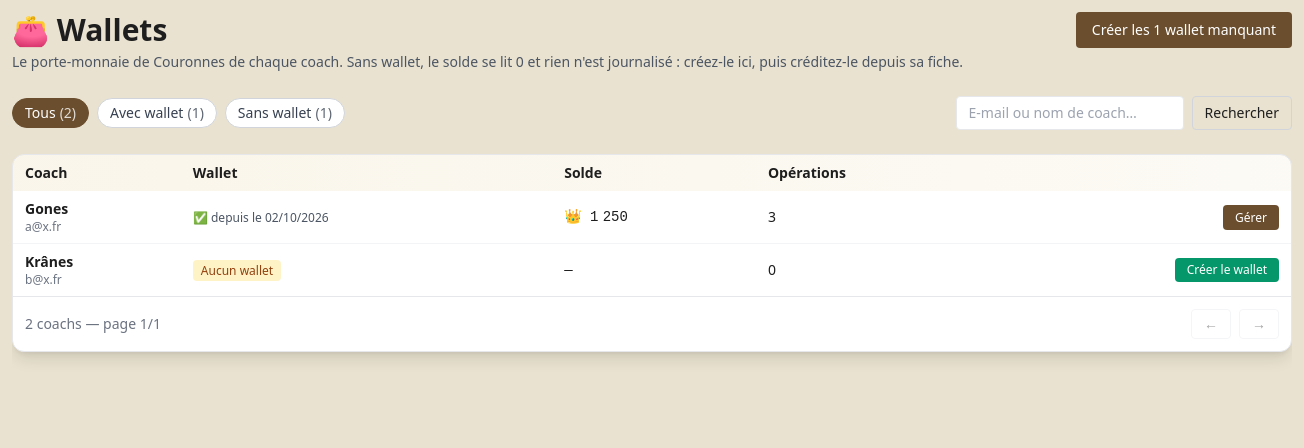
AdminWalletsPage › crée le wallet d'un coach puis recharge
Click the button with test id "wallet-create-u2" at {"x": 1227, "y": 270}, box [1175,258,1279,282]
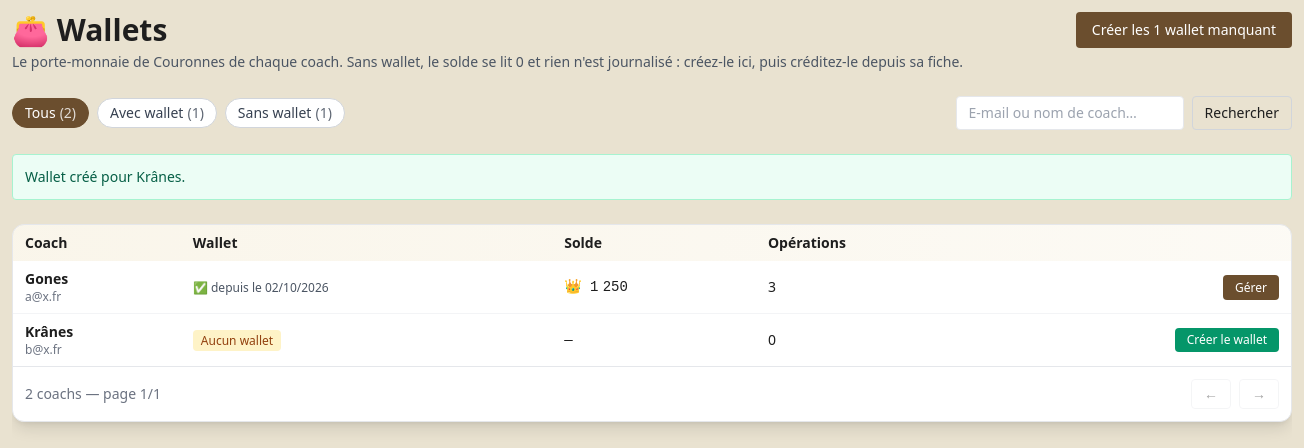
Result: the message with test id "wallets-notice" shows "Wallet créé pour Krânes" at [25,167,185,186]
